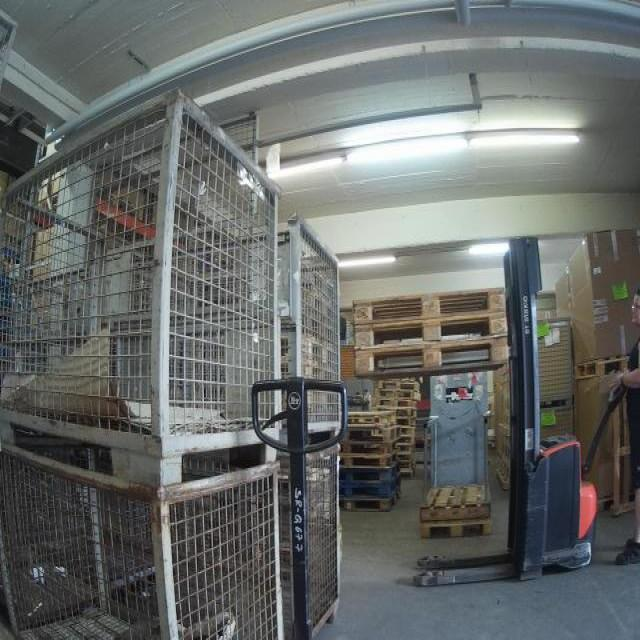pallet: (354, 330, 510, 381), (352, 286, 506, 329), (350, 313, 513, 350), (493, 349, 518, 495), (611, 381, 638, 513), (418, 483, 492, 525), (575, 357, 635, 384), (340, 488, 402, 513), (422, 519, 495, 539), (340, 477, 402, 500), (340, 448, 401, 468), (340, 460, 400, 479), (342, 420, 402, 439), (341, 436, 402, 454), (346, 408, 398, 426), (375, 389, 422, 402), (376, 379, 421, 392), (376, 398, 418, 411), (378, 406, 418, 418), (398, 441, 418, 453), (395, 416, 417, 426), (400, 458, 417, 470), (399, 434, 417, 445), (400, 426, 417, 436), (401, 450, 416, 461), (401, 469, 415, 480)
pallet_truck: (408, 227, 626, 589), (242, 377, 348, 638)
stillage: (1, 82, 291, 494), (100, 198, 349, 439), (1, 446, 287, 638), (172, 439, 353, 638), (522, 315, 582, 405), (532, 402, 574, 468)
